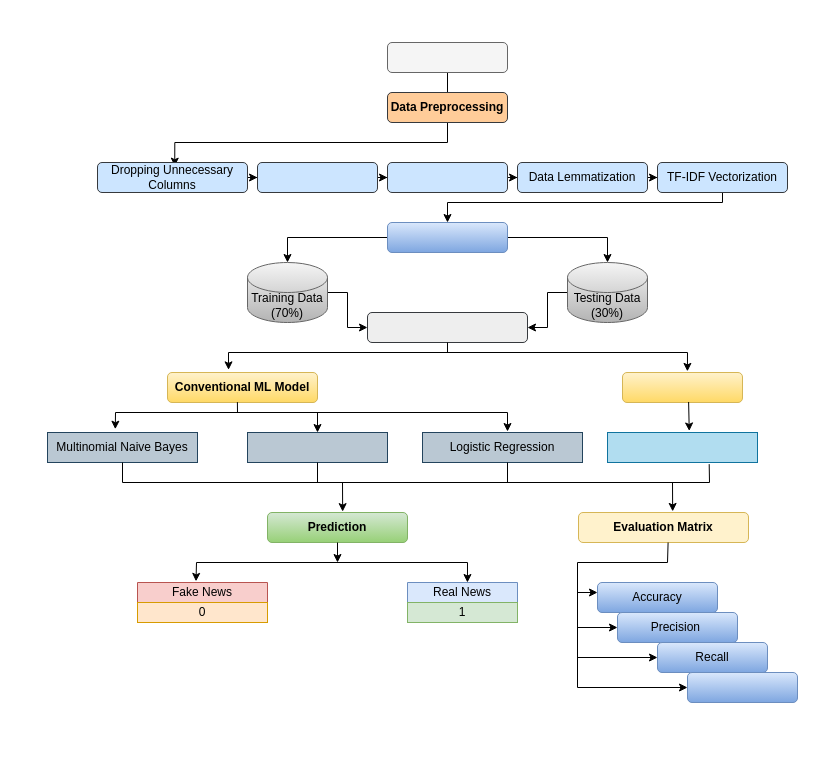
Some shapes in this 835 by 760 pixel diagram are drawn without their labels. The centre of each missing label's shape, as x and y in pixels:
Base Model: LR, DT, SVC: the point at 682,447
Bernoulli Naive Bayes: the point at 317,447
Dataset Splitting: the point at 447,237
F1-Score: the point at 742,687
Handling Null Values: the point at 317,177
Hybrid Model: the point at 682,387
Machine Learning Model Training: the point at 447,327
Read Dataset: the point at 447,57
Text Preprocessing: the point at 447,177
